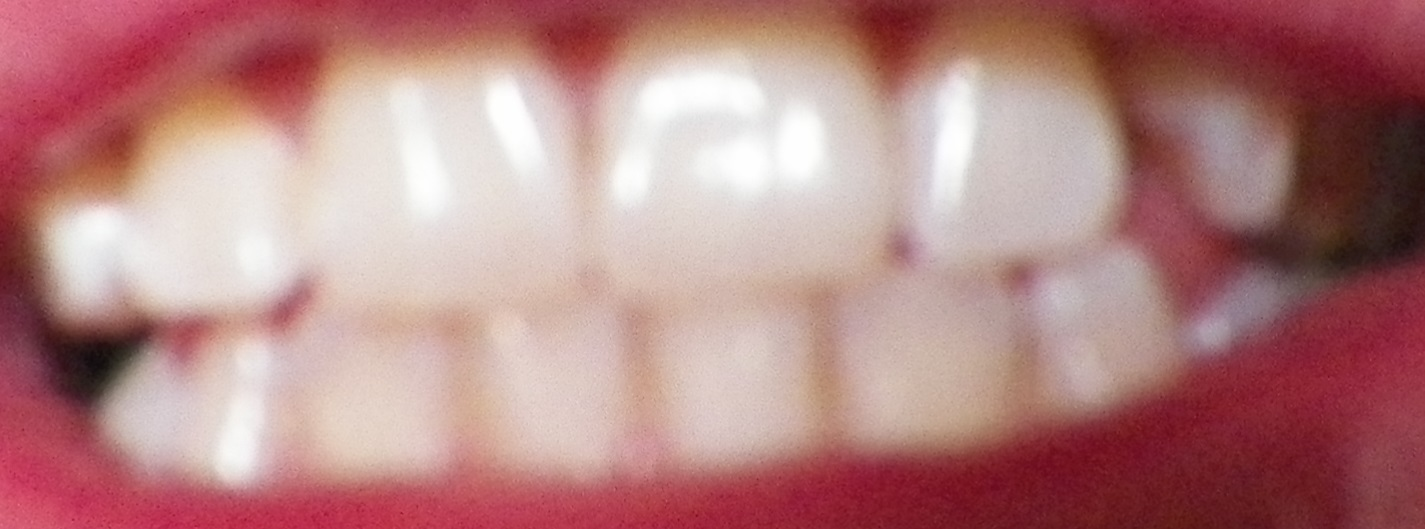boca: (38, 16, 1321, 495)
